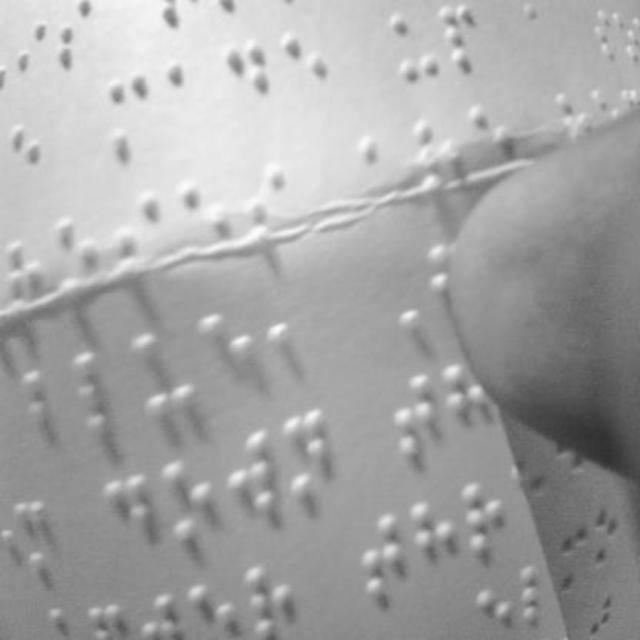braiile: (134, 324, 200, 420), (356, 506, 412, 610), (226, 421, 278, 531), (96, 468, 152, 570), (200, 308, 258, 406), (282, 410, 334, 518), (162, 455, 218, 553), (73, 346, 131, 438), (222, 34, 274, 136), (278, 25, 330, 125), (242, 542, 294, 640), (411, 492, 461, 592), (390, 375, 444, 467), (162, 53, 212, 151), (19, 362, 69, 456), (268, 290, 320, 378), (386, 3, 444, 81), (102, 70, 150, 164), (465, 475, 511, 561), (442, 0, 488, 76)
